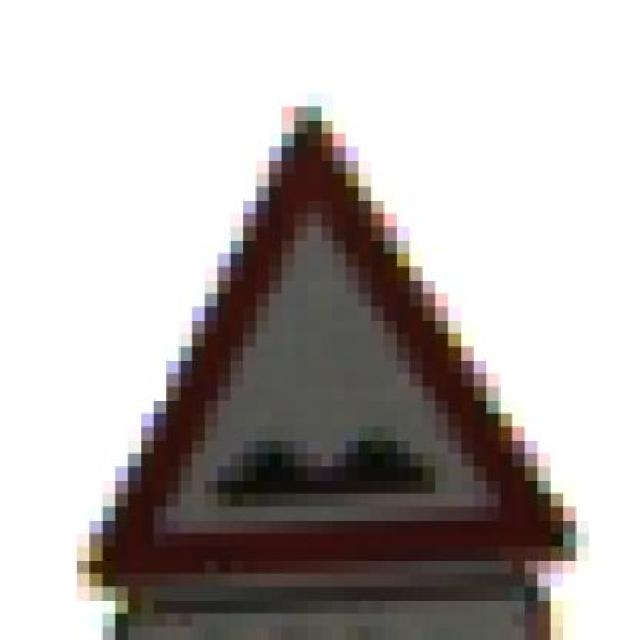Uneven Road: (71, 84, 583, 604)
